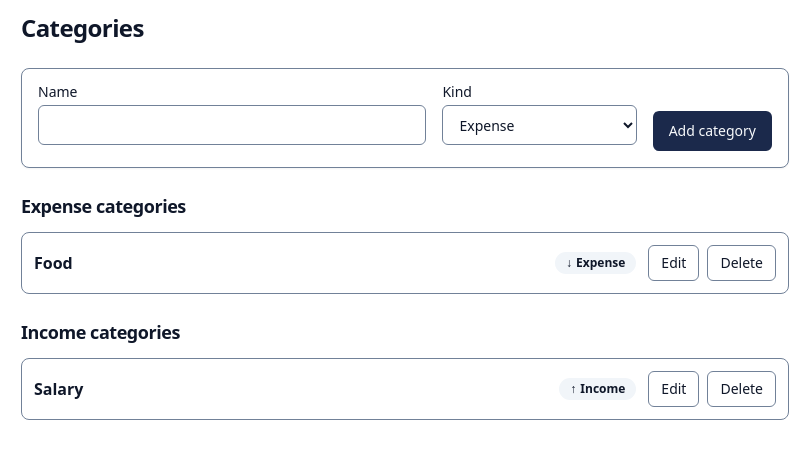
Scenario: SPEC-010 Story-002 categories restyle › SPEC-010 T-025 a refused delete says why beside the row
What coordinates should you click on to do the following:
click the button with aria-label "Delete Food"
I would click on:
 (742, 263)
Its box is [707,245,776,281].
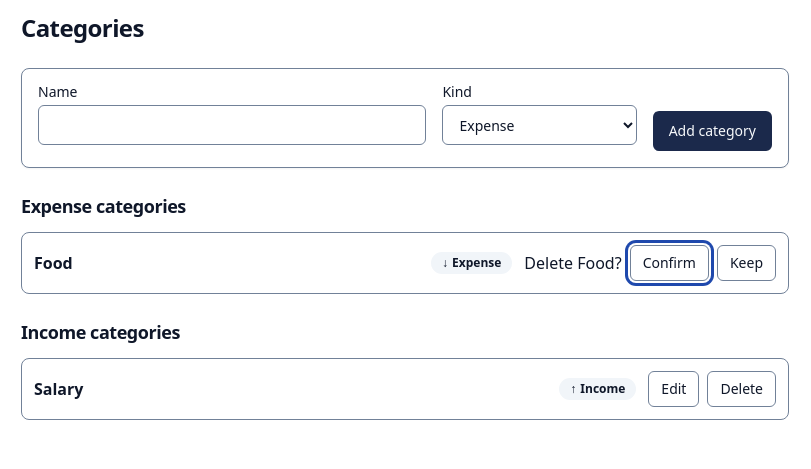
What coordinates should you click on to do the following:
click the button with aria-label "Confirm delete Food"
I would click on:
 (669, 263)
Its box is [630,245,709,281].
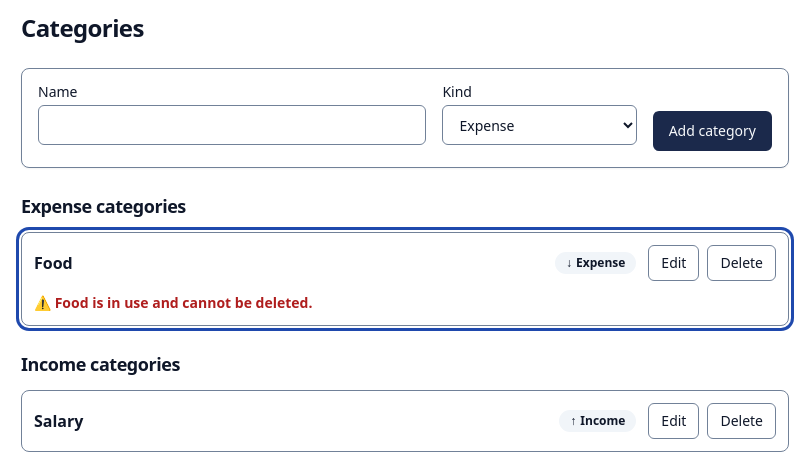
expect the message shows "Food is in use and cannot be deleted.": met, box [55,293,312,312]
expect the message shows "⚠": met, box [34,293,312,312]
